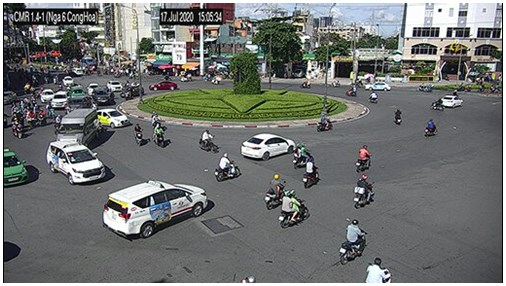xe_hoi: (102, 181, 210, 239), (46, 141, 105, 184), (239, 132, 294, 160), (3, 147, 27, 189), (97, 109, 131, 131), (65, 96, 91, 113), (438, 94, 463, 108), (51, 90, 69, 109), (92, 89, 111, 106), (148, 81, 177, 90), (107, 80, 123, 92), (41, 89, 53, 103), (63, 77, 75, 88), (87, 83, 97, 93)
xe_khach: (57, 109, 97, 146)
xe_may: (339, 218, 367, 266), (279, 190, 310, 229), (263, 173, 288, 209), (352, 174, 374, 210), (215, 152, 241, 181), (302, 157, 320, 189), (294, 143, 314, 168), (197, 128, 215, 153), (357, 145, 372, 172), (317, 112, 333, 132), (153, 123, 164, 148), (150, 110, 162, 131), (133, 123, 143, 147), (11, 119, 22, 140), (426, 119, 438, 138), (430, 98, 446, 111), (28, 110, 36, 130), (344, 85, 356, 97), (369, 91, 379, 104), (331, 76, 341, 88), (395, 108, 402, 125), (210, 74, 220, 85), (55, 114, 62, 128), (38, 109, 44, 125), (300, 79, 311, 87), (417, 81, 423, 92)
